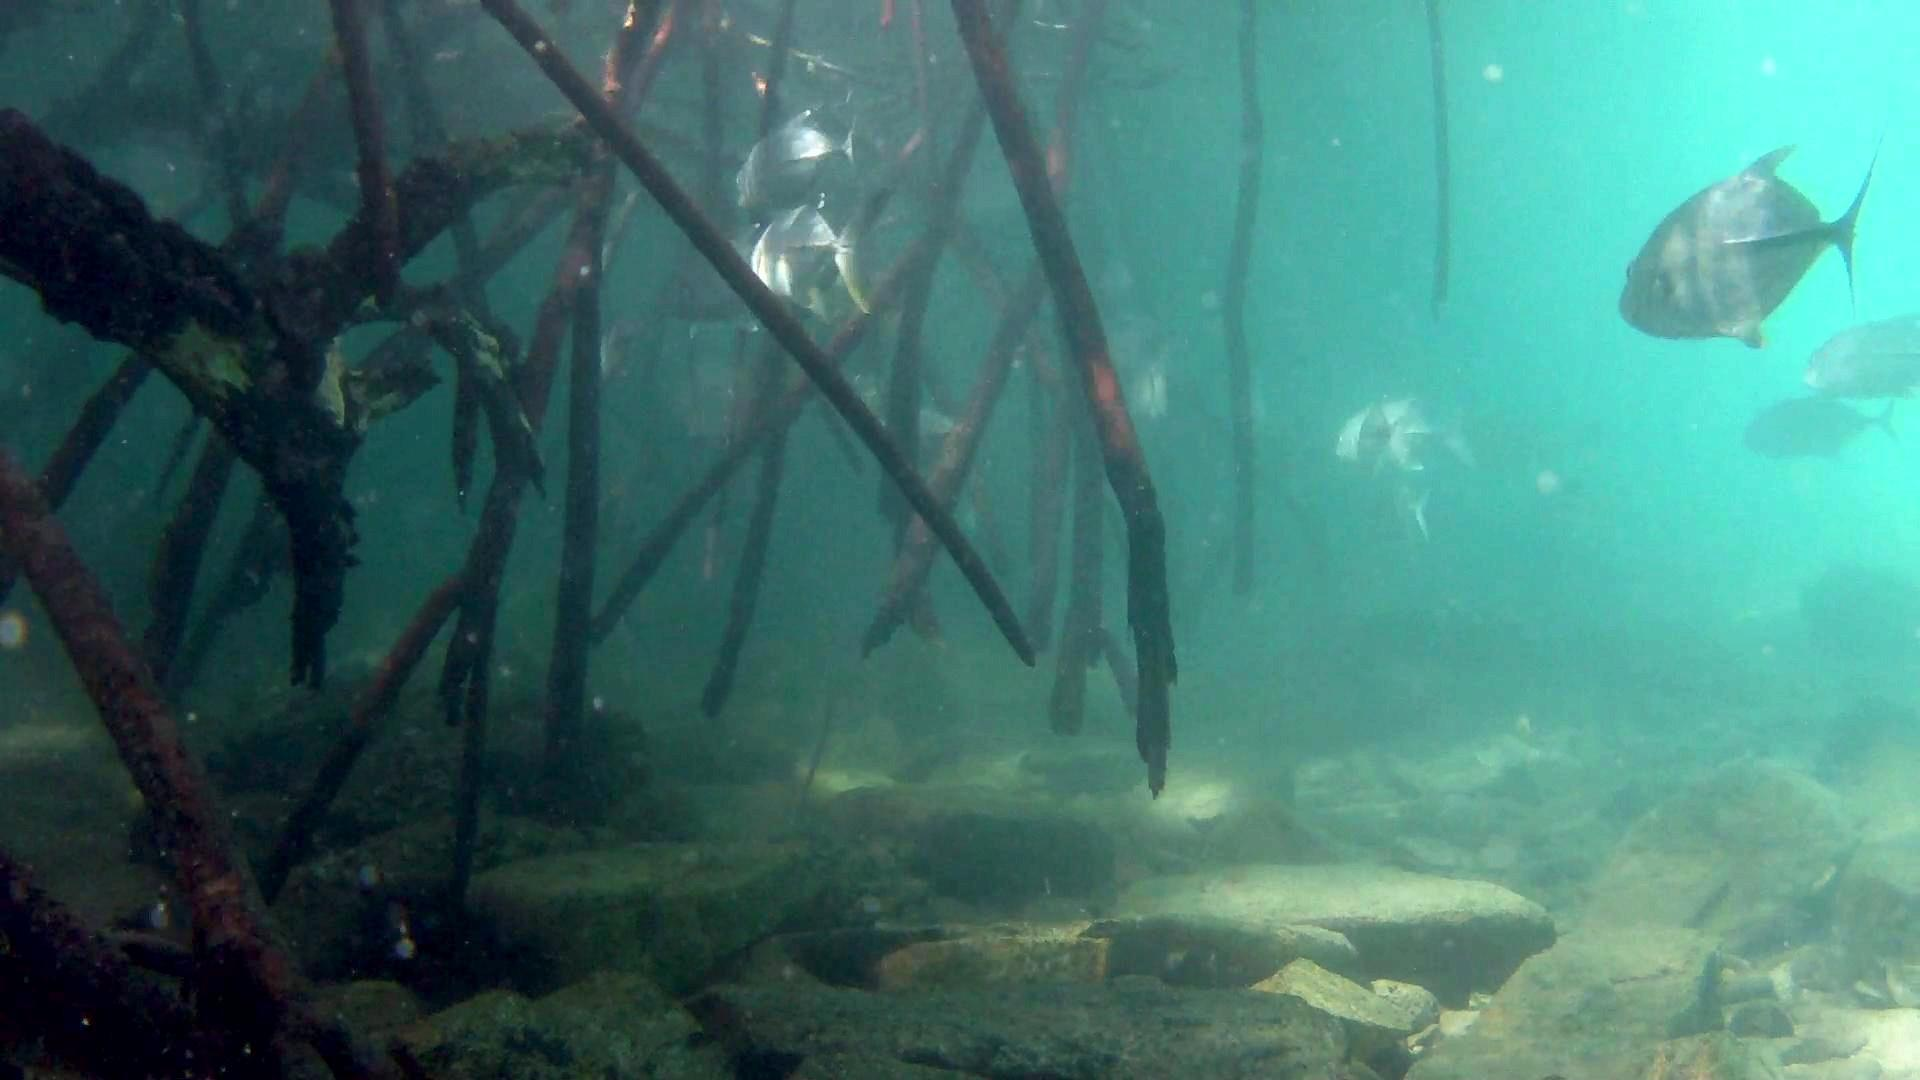caranx: (1613, 135, 1884, 359), (743, 189, 906, 323)
